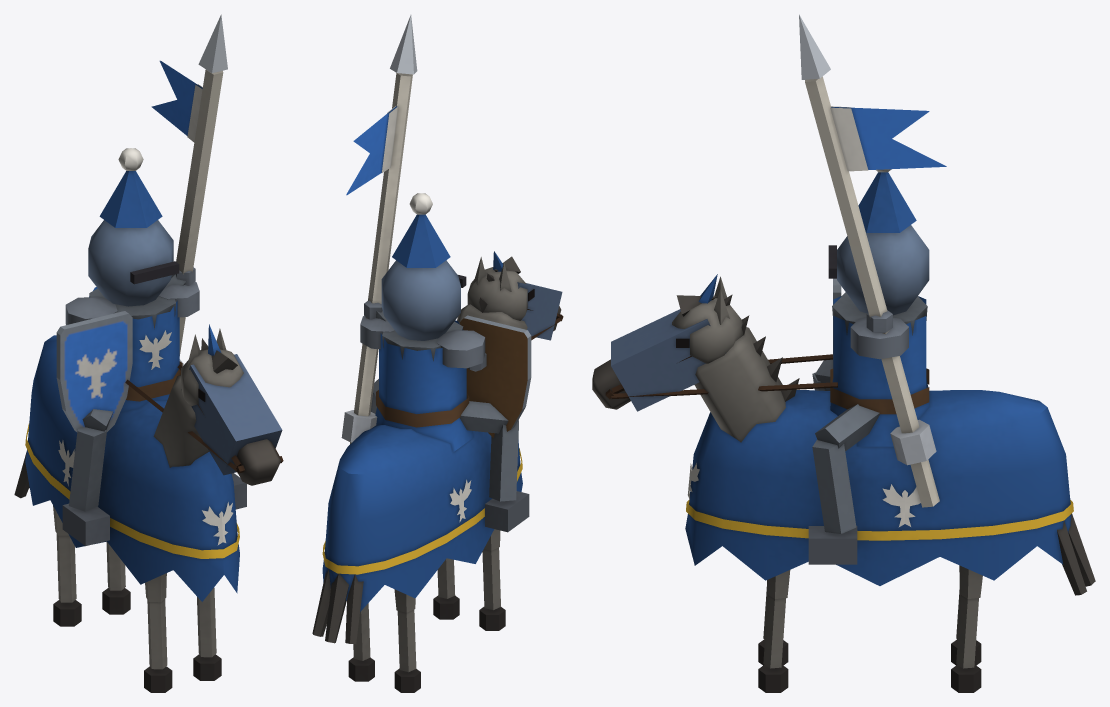
File: assault_dl3_blue.glb
The picture shows the model from 3 angles, left to right: view 1: azimuth 30°, elevation 25°; view 2: azimuth 150°, elevation 25°; view 3: azimuth 270°, elevation 25°; orthographic projection. The views are drawn at different scales.
Parts seen in each view (by area): view 1: assault_dl3_blue; view 2: assault_dl3_blue; view 3: assault_dl3_blue.
Boxes of the visible parts, bbox=[...] form: assault_dl3_blue: bbox=[14, 14, 283, 692]; assault_dl3_blue: bbox=[312, 15, 563, 692]; assault_dl3_blue: bbox=[592, 14, 1095, 692].
Bounding box in the file's own units: 0.2579 × 0.9039 × 0.6004.
Materials: 1 (1 with a texture image).
